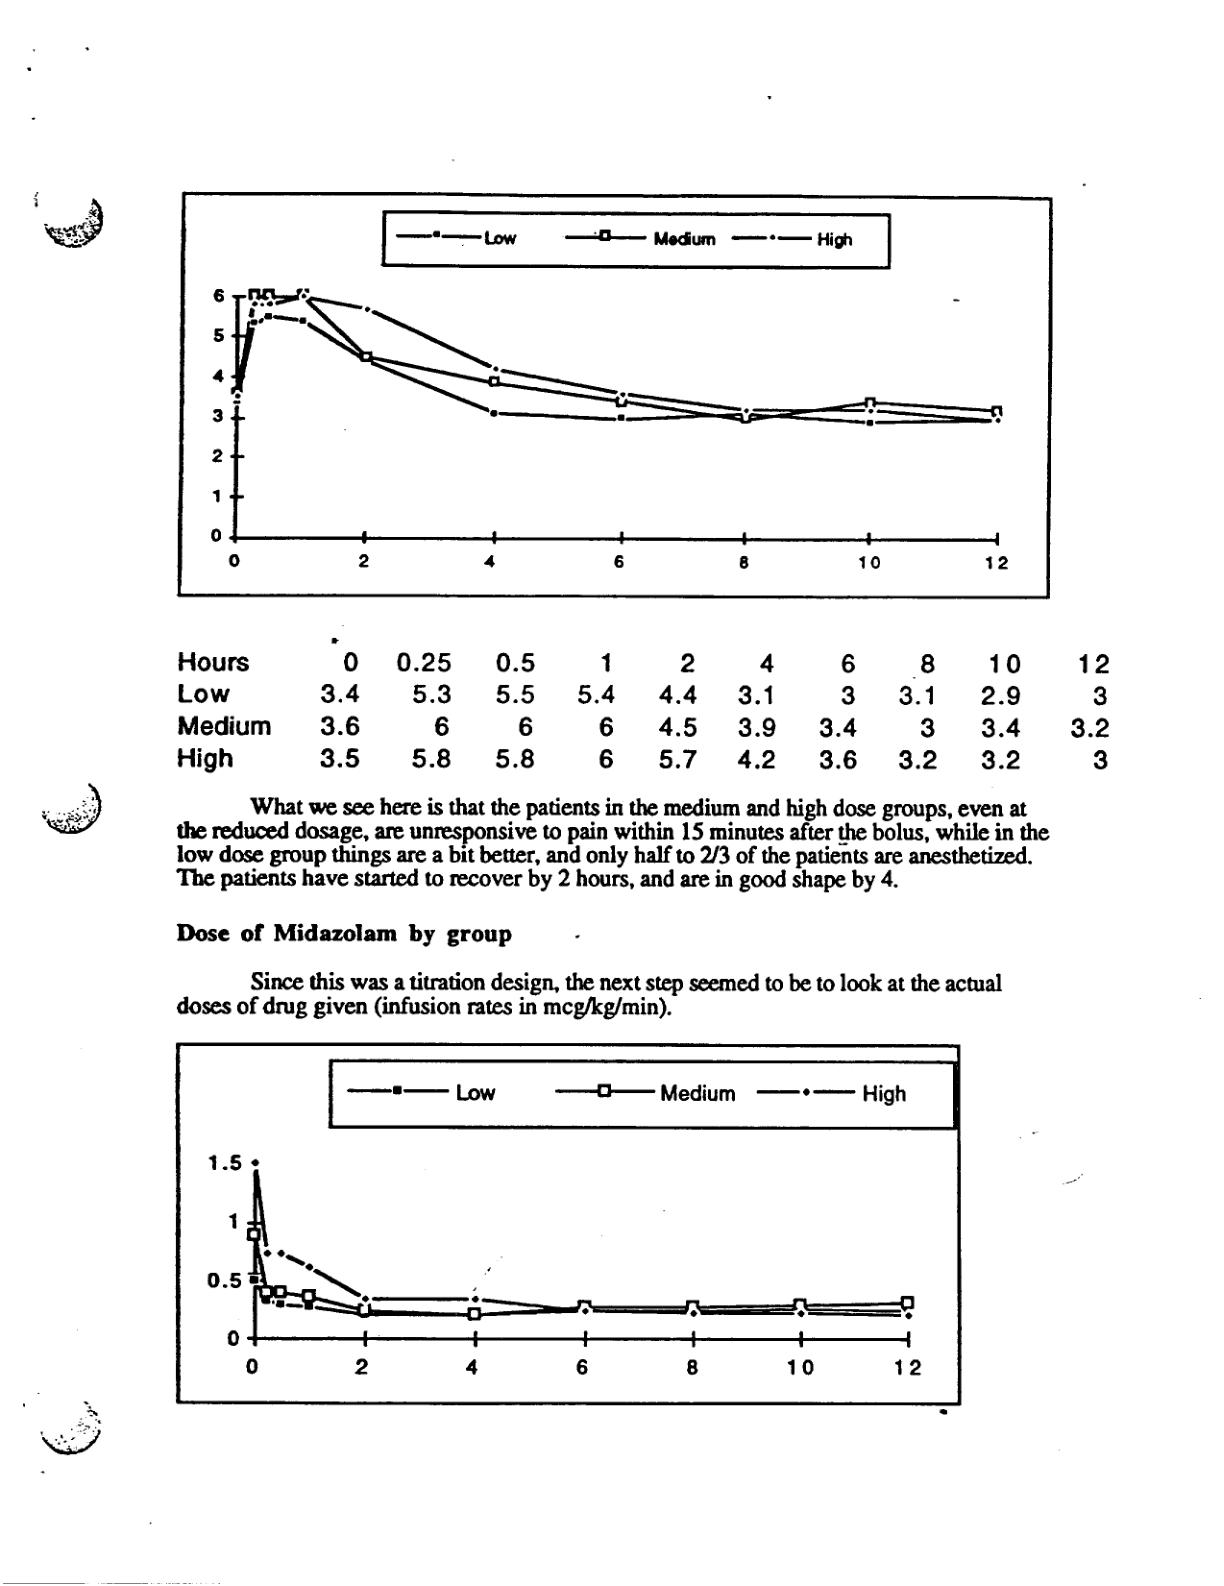nolines: (170, 646, 1113, 778)
